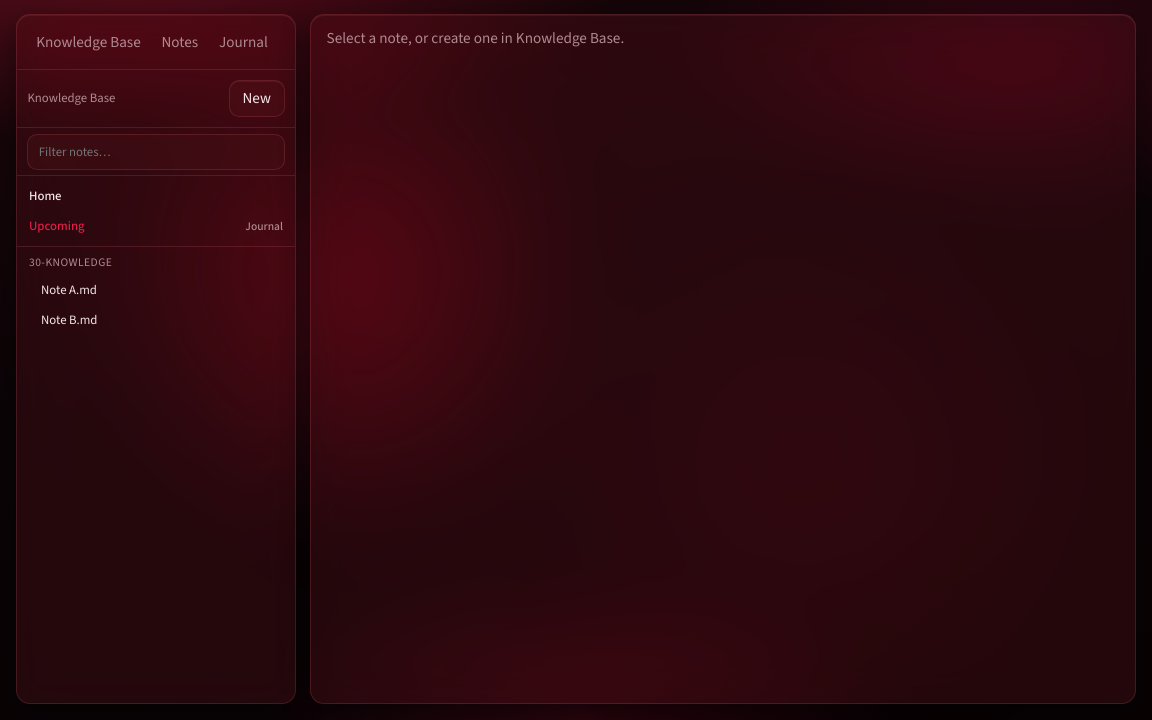
KnowledgePane background vault events › keeps the dirty draft and open note when an SSE vault event arrives
Click the button "Note A.md". click: point(69, 290)
box: x1=17 y1=274 x2=295 y2=305
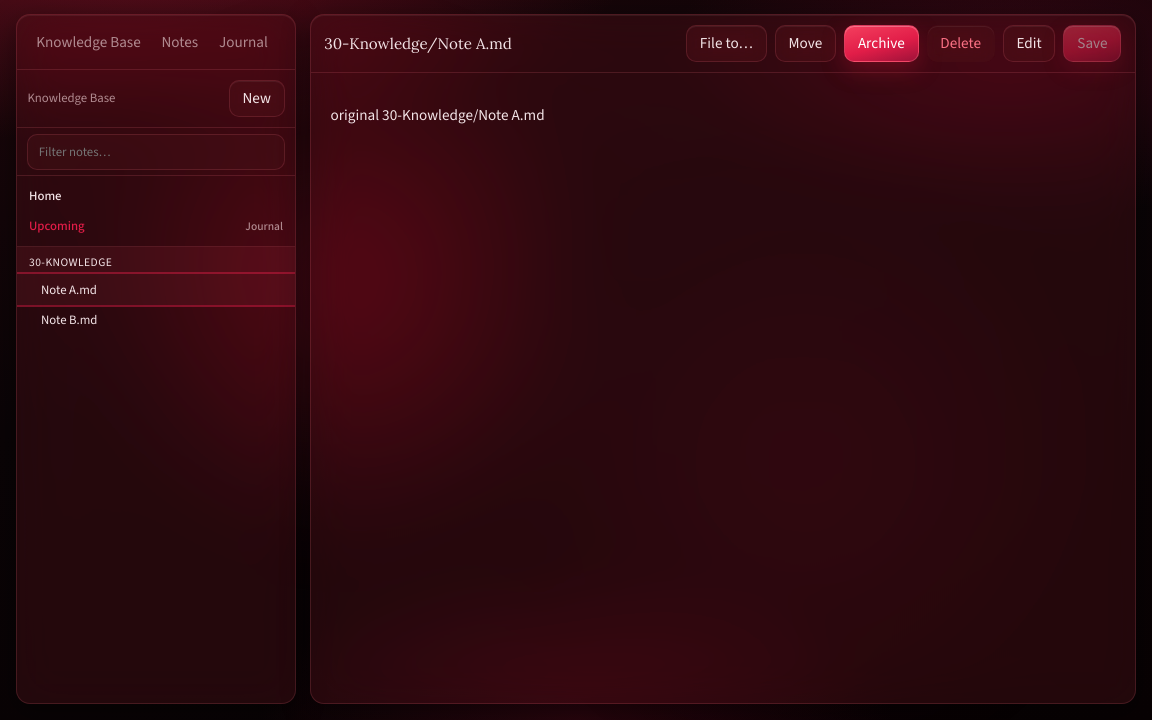
Click the button "Edit". click: point(1029, 43)
box: x1=1003 y1=25 x2=1056 y2=62
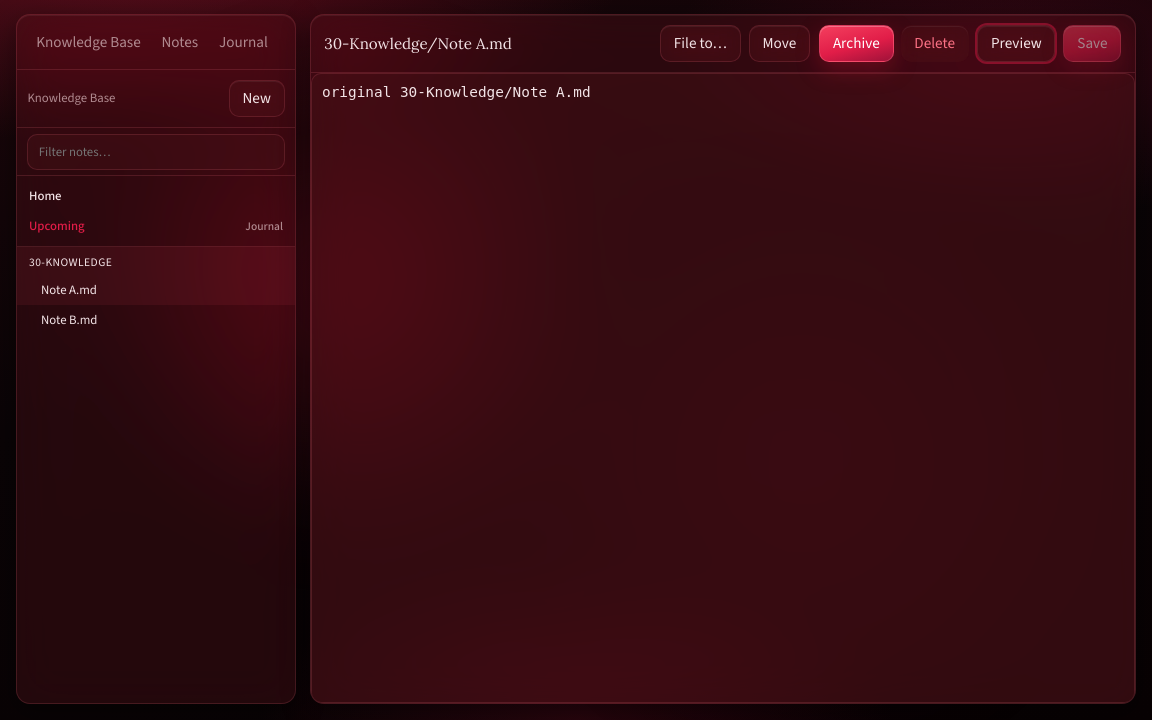
Type " plus my in-progress edit" into the text box. click: point(723, 388)
box: x1=311 y1=73 x2=1135 y2=703
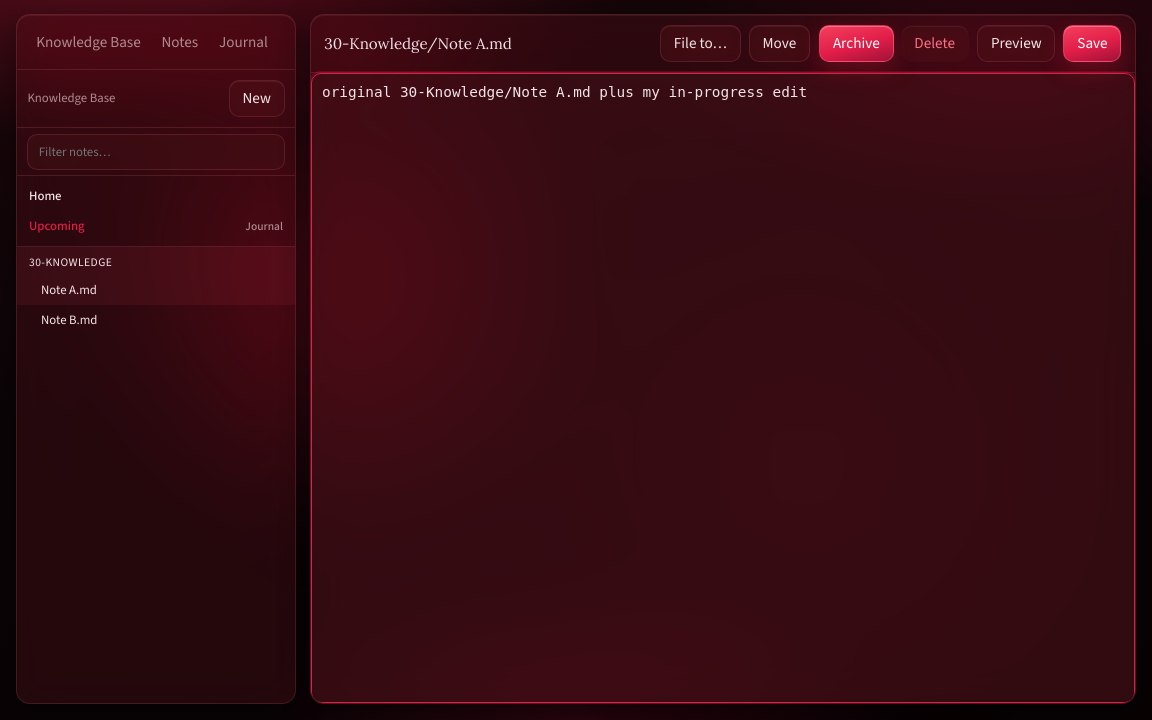
Expected: the text box showing "in-progress edit" is shown
